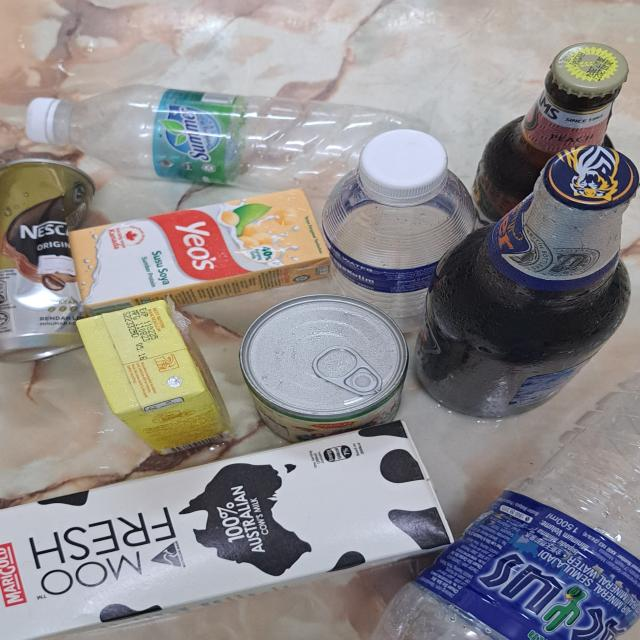can: (237, 293, 412, 443), (0, 158, 94, 364)
drink carton: (0, 419, 457, 640), (66, 188, 330, 315), (76, 299, 228, 457)
glass bottle: (409, 144, 640, 419), (472, 41, 628, 232)
plastic bottle: (364, 372, 640, 640), (25, 87, 430, 190), (323, 166, 479, 340)
plastic bottle cap: (360, 130, 448, 199), (28, 96, 60, 144)
pop tab: (311, 345, 382, 396)
